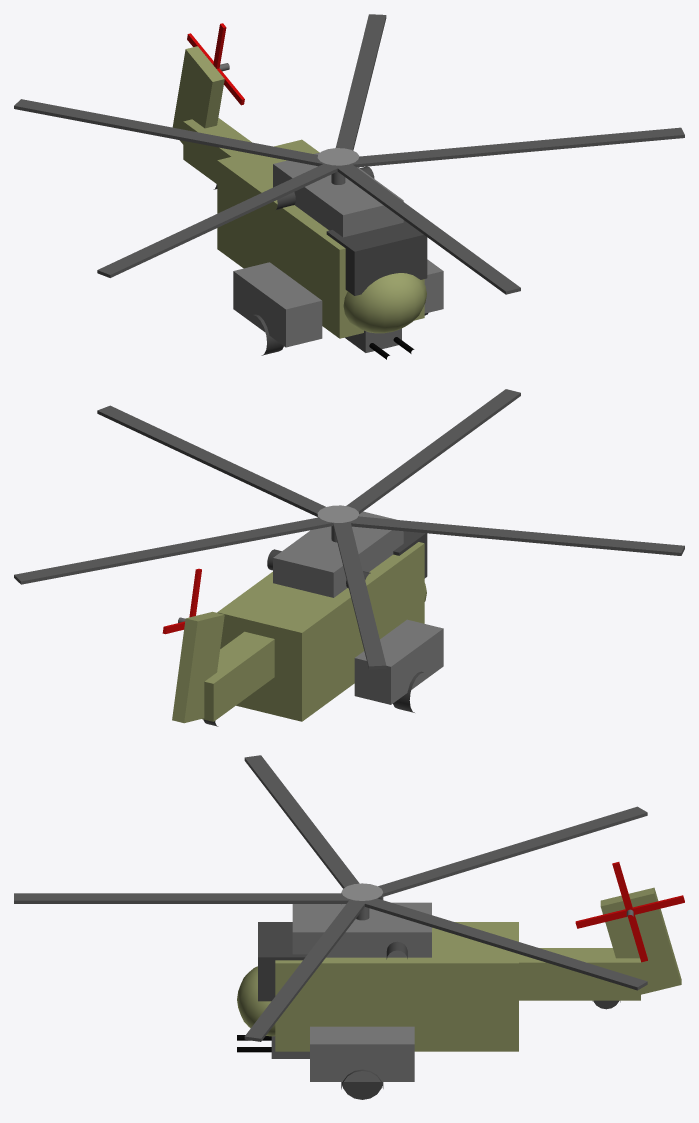
File: WastelandHellCopter.glb
3 renders of one model, top to bottom at view 1: azimuth 30°, elevation 25°; view 2: azimuth 150°, elevation 25°; view 3: azimuth 270°, elevation 25°, orthographic.
Parts seen in each view (by area): view 1: Fuselage, SponsonL, EngineHump, CockpitWindow, Blade2, NoseCone, Blade4, Blade5, Blade1, TailFin, Blade3, TailBoom (+3 smaller); view 2: Fuselage, EngineHump, SponsonL, TailBoom, TailFin, Blade5, Blade3, Blade2, Blade1, Blade4, RotorHub, CockpitWindow; view 3: Fuselage, SponsonR, EngineHump, TailBoom, TailFin, Blade1, Blade3, Blade4, Blade2, Blade5, CockpitWindow, NoseCone (+4 smaller).
Part boxes in pixels (bbox=[...]): Fuselage: bbox=[217, 139, 424, 338]; SponsonL: bbox=[233, 262, 322, 347]; EngineHump: bbox=[273, 152, 403, 237]; CockpitWindow: bbox=[326, 220, 427, 295]; Blade2: bbox=[351, 127, 684, 167]; NoseCone: bbox=[343, 273, 426, 333]; Blade4: bbox=[14, 99, 323, 166]; Blade5: bbox=[97, 163, 343, 277]; Blade1: bbox=[334, 163, 520, 294]; TailFin: bbox=[172, 46, 224, 144]; Blade3: bbox=[335, 14, 386, 150]; TailBoom: bbox=[183, 118, 251, 183]; Fuselage: bbox=[217, 542, 424, 721]; EngineHump: bbox=[273, 511, 403, 597]; SponsonL: bbox=[354, 619, 443, 704]; TailBoom: bbox=[202, 631, 274, 721]; TailFin: bbox=[172, 611, 224, 723]; Blade5: bbox=[345, 516, 684, 555]; Blade3: bbox=[14, 517, 333, 584]; Blade2: bbox=[97, 405, 325, 516]; Blade1: bbox=[346, 389, 520, 513]; Blade4: bbox=[333, 522, 386, 669]; RotorHub: bbox=[317, 505, 359, 522]; CockpitWindow: bbox=[393, 531, 427, 578]; Fuselage: bbox=[275, 922, 518, 1051]; SponsonR: bbox=[310, 1026, 414, 1081]; EngineHump: bbox=[292, 902, 431, 957]; TailBoom: bbox=[519, 948, 640, 1000]; TailFin: bbox=[600, 887, 681, 994]; Blade1: bbox=[14, 893, 349, 903]; Blade3: bbox=[358, 898, 647, 990]; Blade4: bbox=[377, 806, 647, 898]; Blade2: bbox=[244, 899, 364, 1041]; Blade5: bbox=[244, 755, 359, 888]; CockpitWindow: bbox=[258, 922, 307, 1001]; NoseCone: bbox=[237, 966, 275, 1036].
Size of the model in its own units: 9.63 by 3.37 by 9.63.
